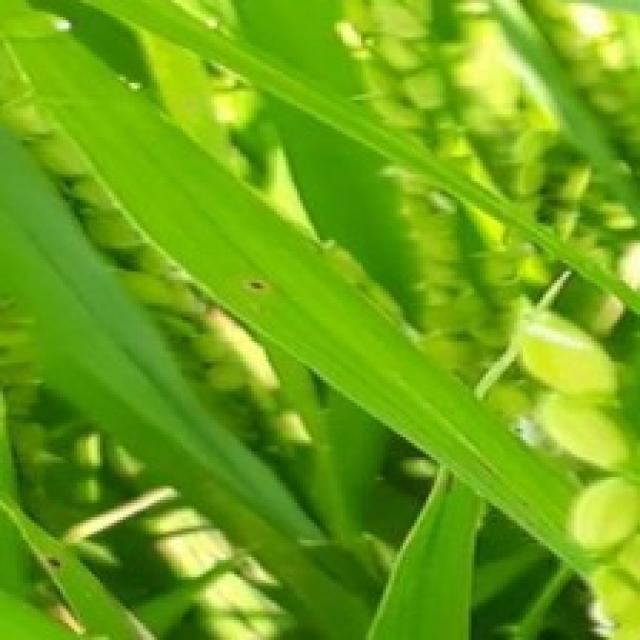Rice___Brown_Spot: (0, 0, 599, 583)
